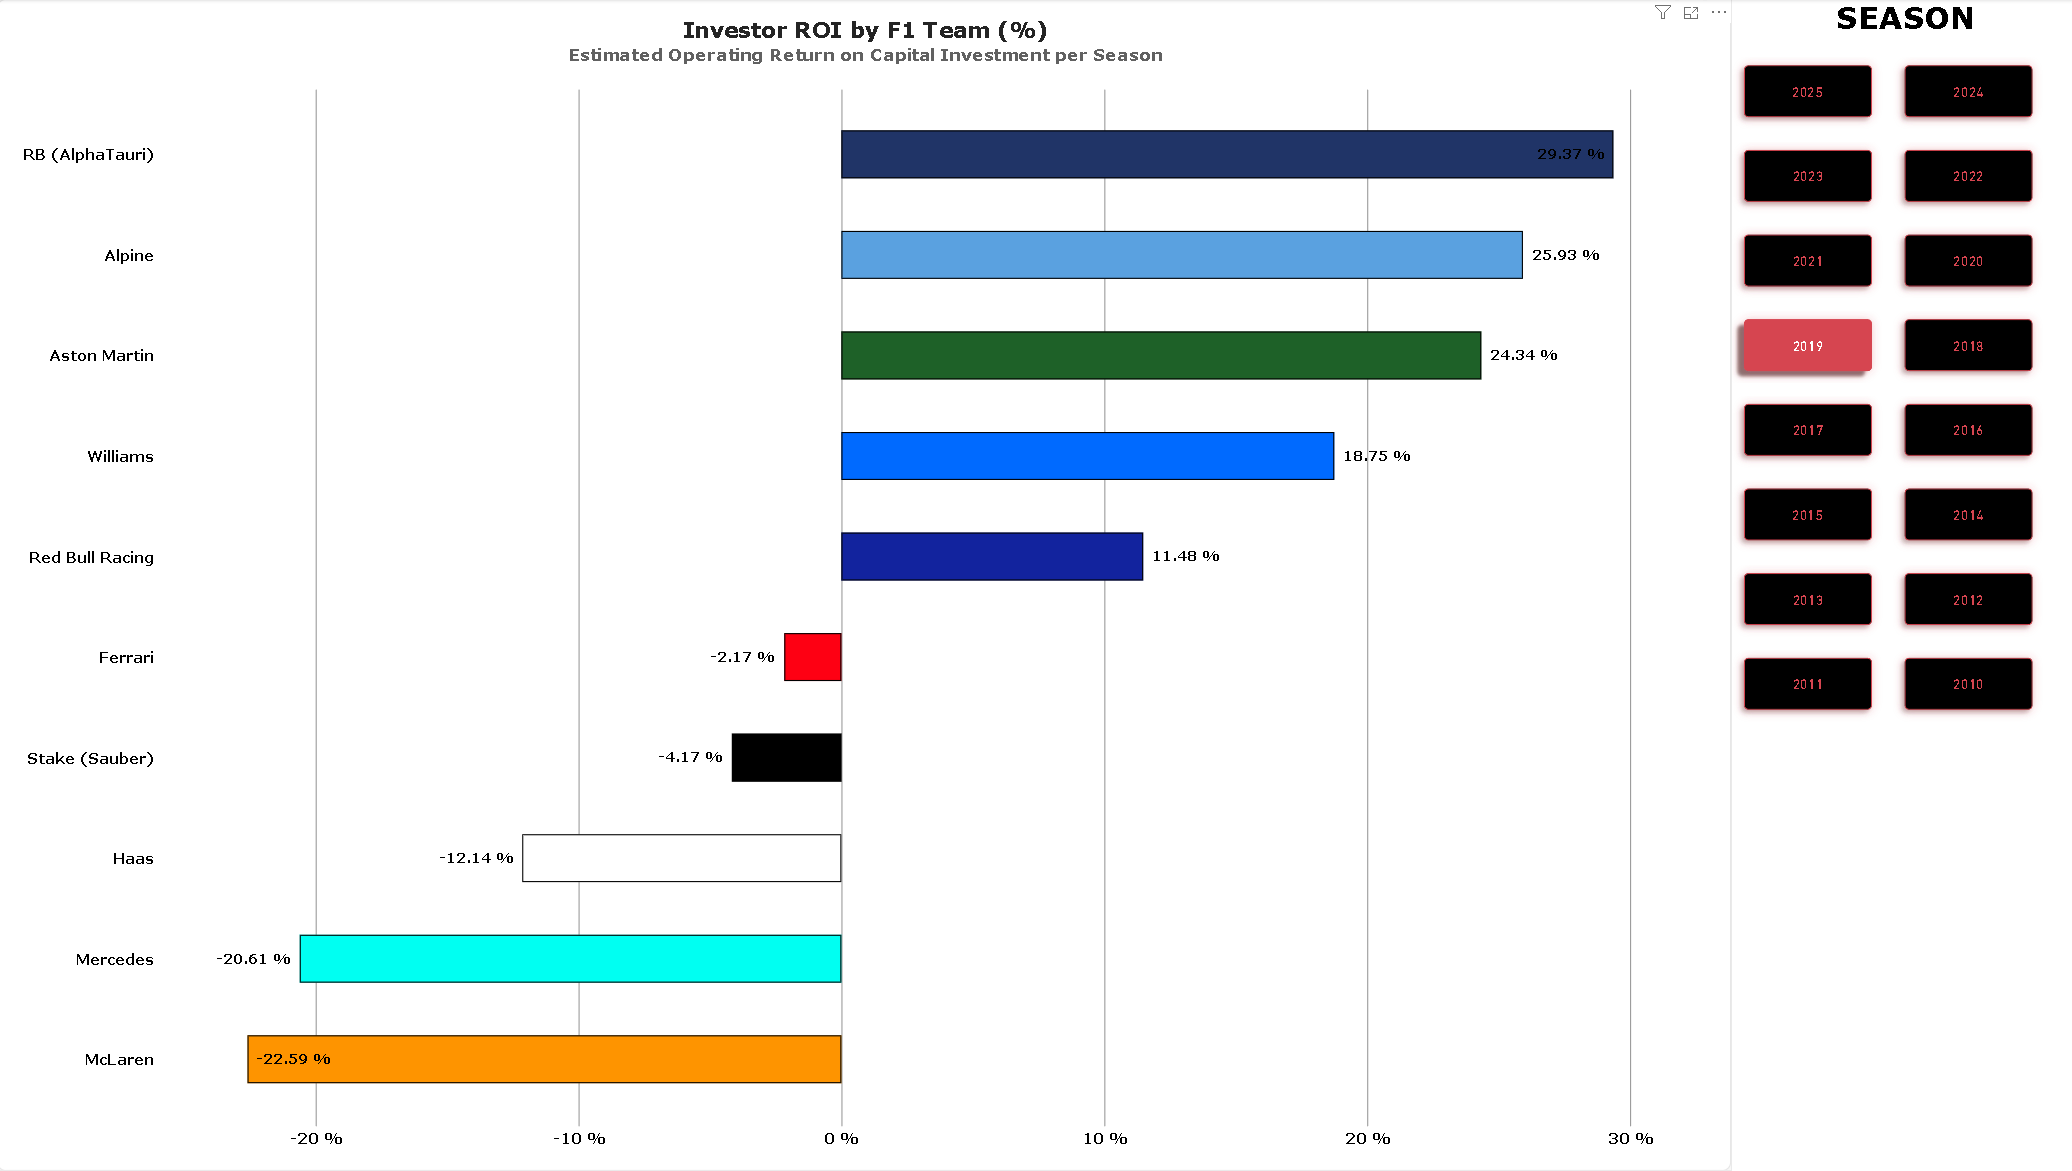

This screenshot's page, from the dashboard's own definition file:
{"tool":"powerbi","page":{"name":"Page 1","canvas":[1920,1080],"ordinal":0},"visuals":[{"type":"barChart","title":"Investor ROI by F1 Team (%)","fields":{"Category":["constructor_finances.team_name"],"Y":["constructor_finances.ROI_Inversor"]},"box":[0,0,1598.5,1080.3],"z":0},{"type":"advancedSlicerVisual","title":"SEASON","fields":{"Values":["Dim Season.Season"]},"box":[1598.5,0,321.5,1080.3],"z":1000}]}

Visuals, with their boxes in screenshot pixels (x1, y1, x2, y2), scaled from the page's 1920x1080 canvas onto the 2072x1171 screenshot:
"Investor ROI by F1 Team (%)" barChart: detection(0, 0, 1725, 1170)
"SEASON" advancedSlicerVisual: detection(1725, 0, 2071, 1170)
